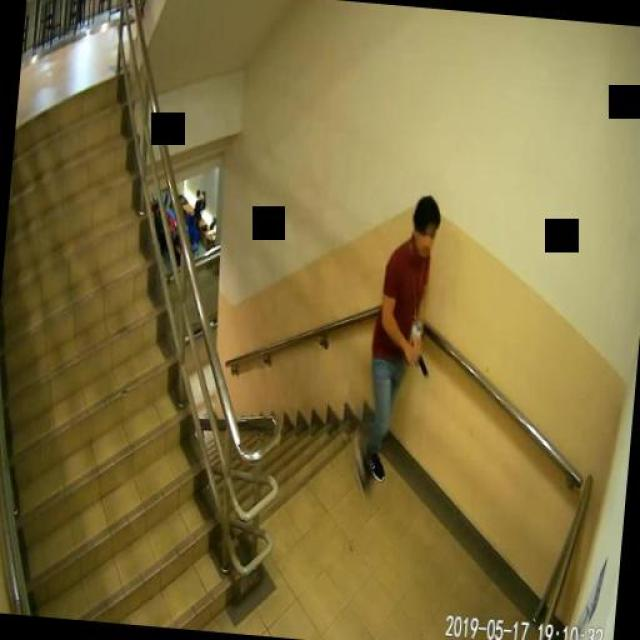gun: (405, 340, 427, 371)
